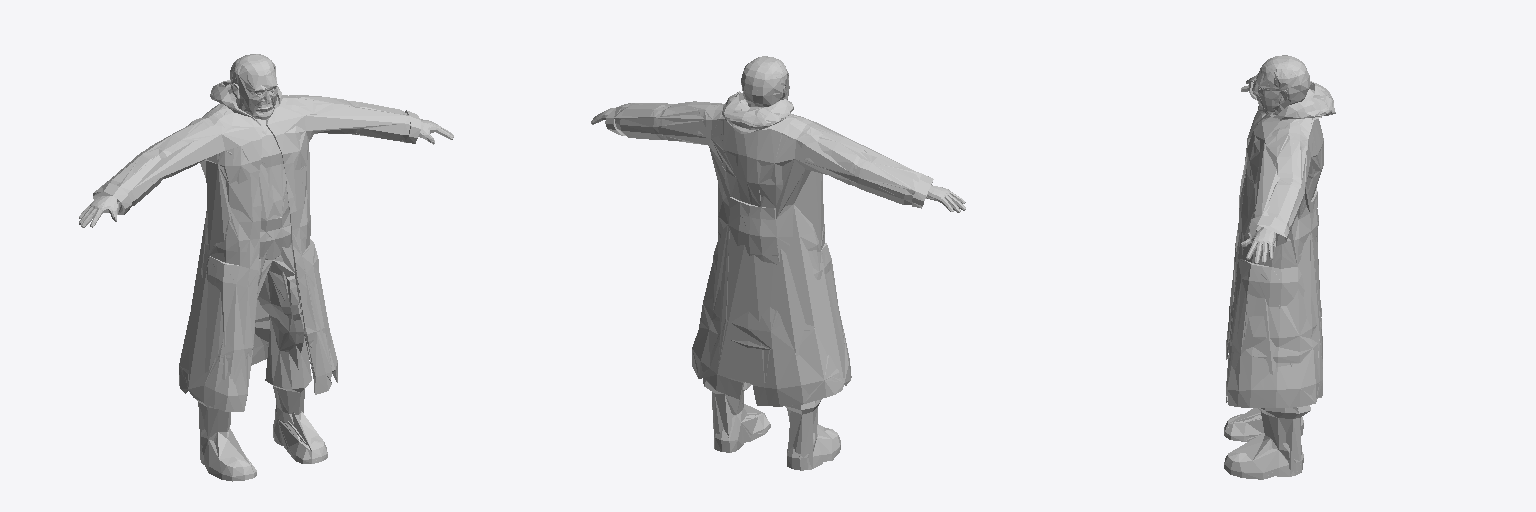
The model's file is trader_barman.obj.
3 views of the same model, side by side, from view 1: azimuth 30°, elevation 25°; view 2: azimuth 150°, elevation 25°; view 3: azimuth 270°, elevation 25° (orthographic).
Visible parts, largest first — view 1: trader_barman_trader_barman_trader_barmanMAT0; view 2: trader_barman_trader_barman_trader_barmanMAT0; view 3: trader_barman_trader_barman_trader_barmanMAT0.
Boxes of the visible parts, <box> form: trader_barman_trader_barman_trader_barmanMAT0: <box>79,54,453,481</box>; trader_barman_trader_barman_trader_barmanMAT0: <box>591,56,965,470</box>; trader_barman_trader_barman_trader_barmanMAT0: <box>1224,55,1335,479</box>.
Bounding box in the file's own units: 1.84 × 1.86 × 0.4793.